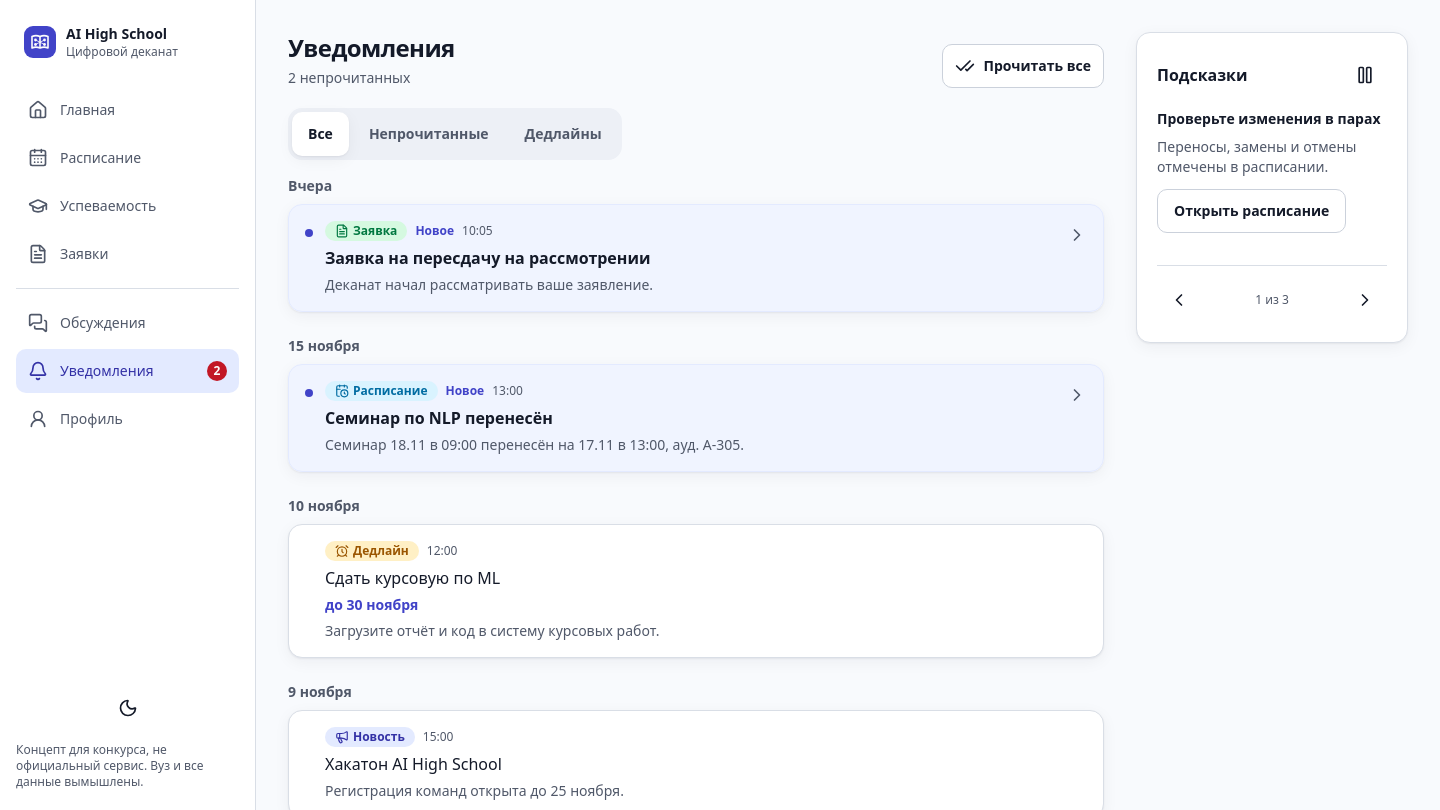
Test case: NotificationsPage › «Прочитать все» — бейдж пропадает, фильтр «Непрочитанные» показывает «Всё прочитано»
Expected: the element "Вчера" is shown, [288,176,1104,312]
Click the button "Прочитать все": (1023, 66) [942,44,1104,88]
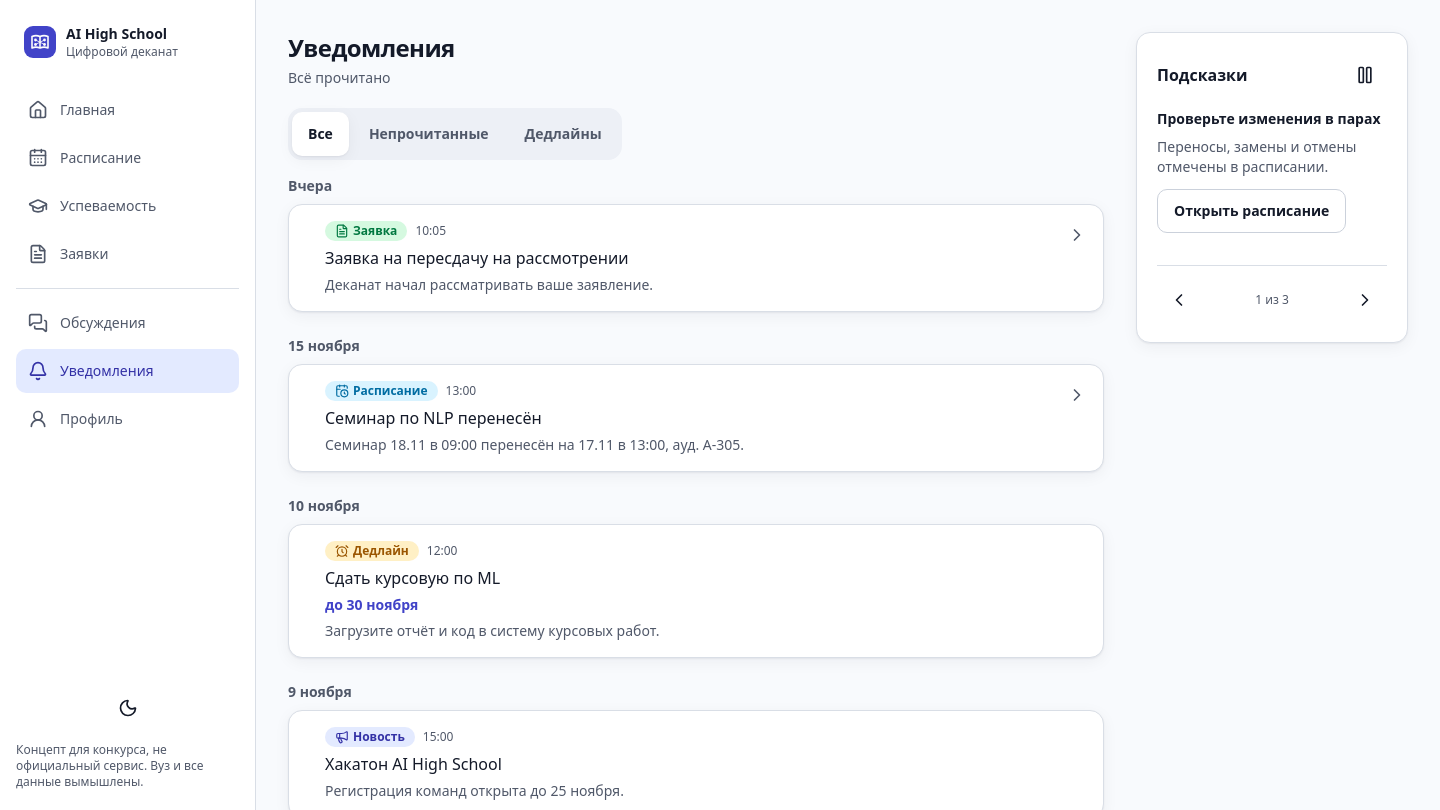
Expected: the text "Всё прочитано" is shown, [288,68,390,87]
Expected: the text "Новое" is gone
Expected: the button "Прочитать все" is gone
Click the tab "Непрочитанные": (429, 134) [353,112,505,156]
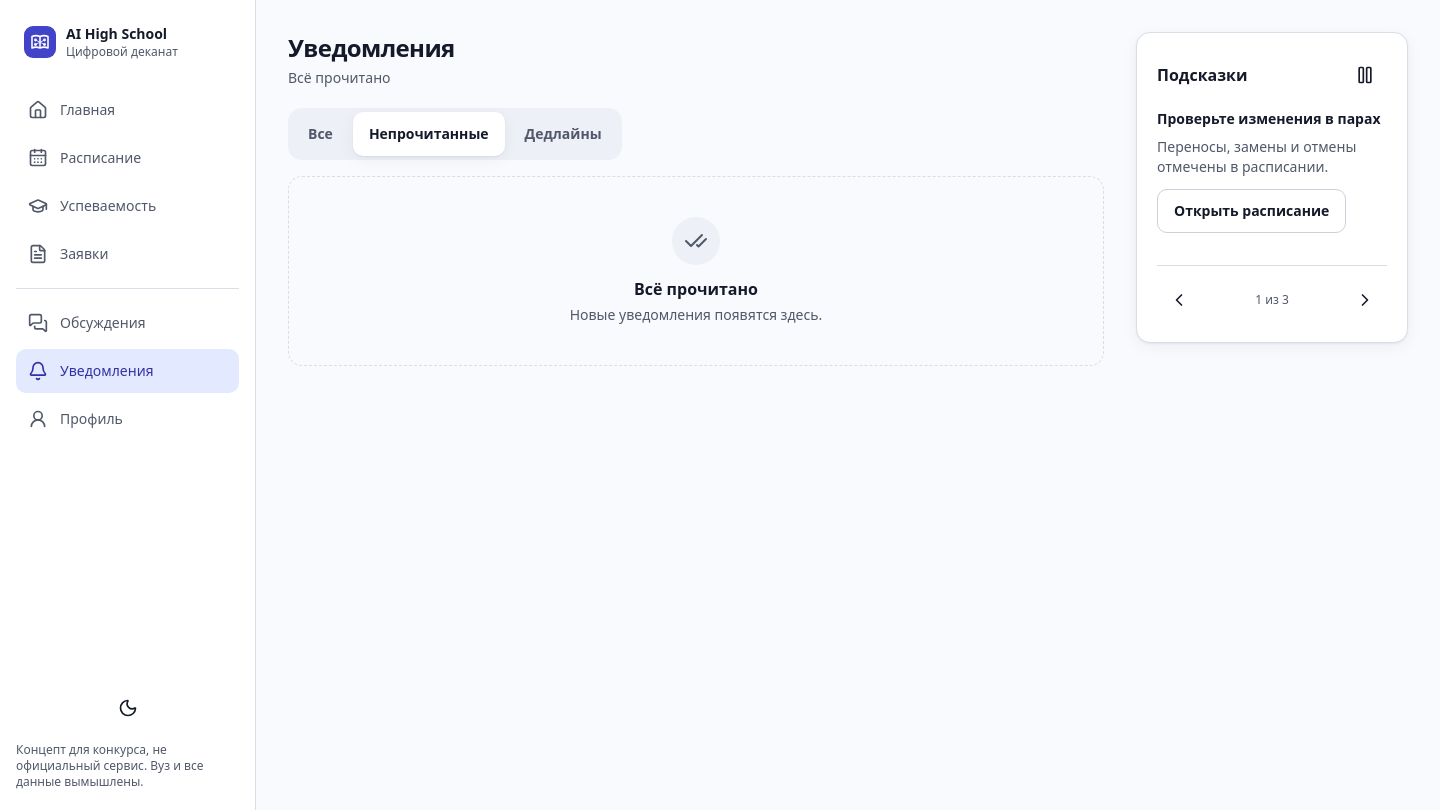
Expected: the text "Новые уведомления появятся здесь." is shown, [570,305,822,325]
